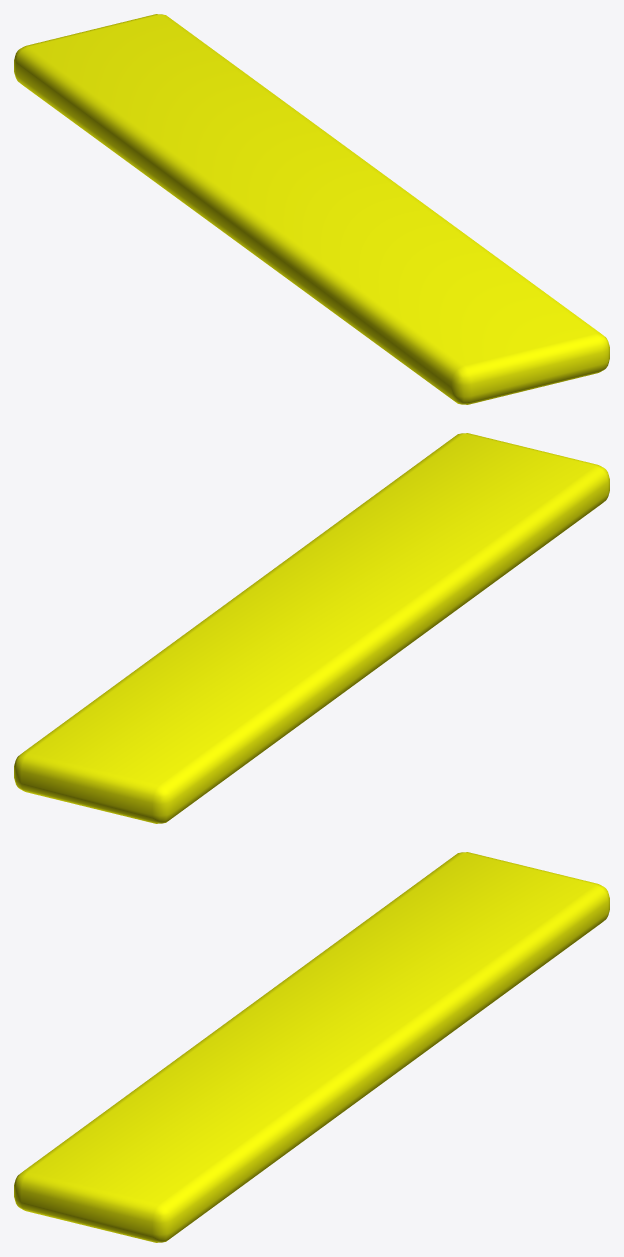
Rendered from Shelf2.fbx.
3 views of the same model, one above another, from view 1: azimuth 30°, elevation 25°; view 2: azimuth 150°, elevation 25°; view 3: azimuth 330°, elevation 25° (orthographic).
Parts seen in each view (by area): view 1: Shelf2; view 2: Shelf2; view 3: Shelf2.
Boxes of the visible parts, left/top/right/bottom form: Shelf2: left=14, top=14, right=609, bottom=404; Shelf2: left=14, top=433, right=609, bottom=823; Shelf2: left=14, top=852, right=609, bottom=1242.
Bounding box in the file's own units: 0.8106 × 4.04 × 0.1899.
